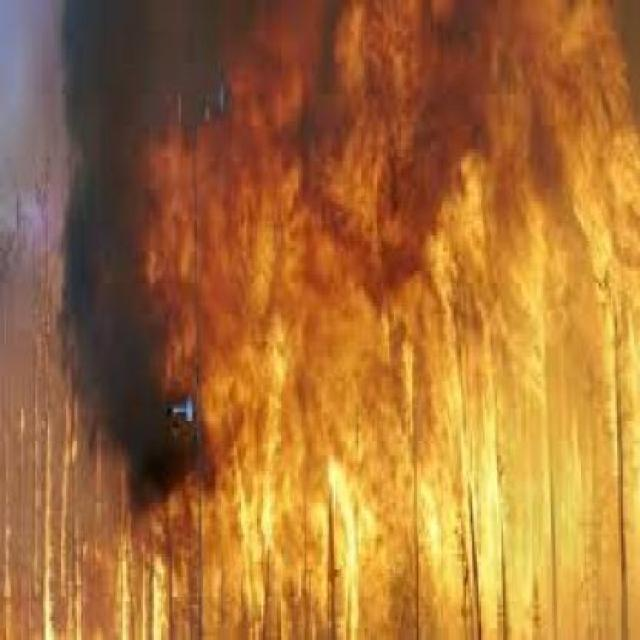Fire: (190, 141, 640, 640)
